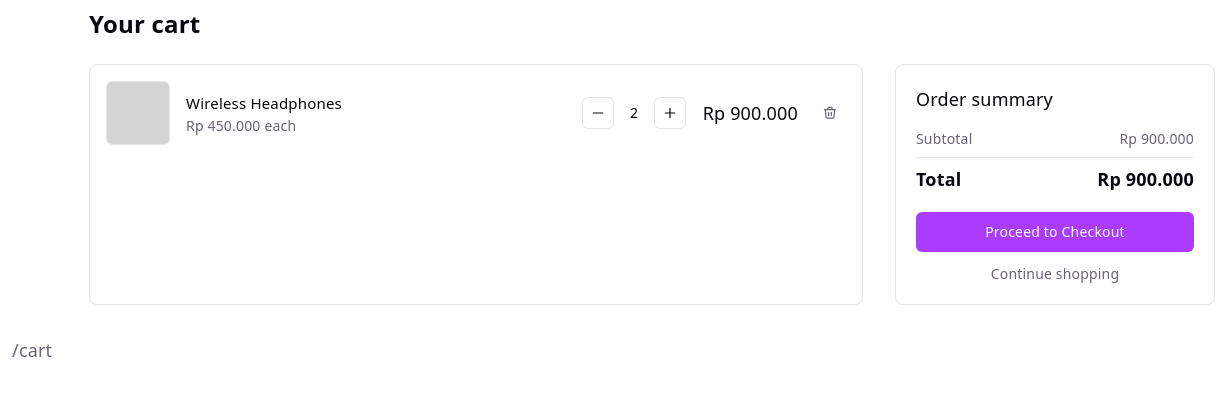
it: CartPage › shows an error message when a cart mutation fails
Step 1. Click the button named "Remove Wireless Headphones" → (830, 113), box 814,97 -> 846,129
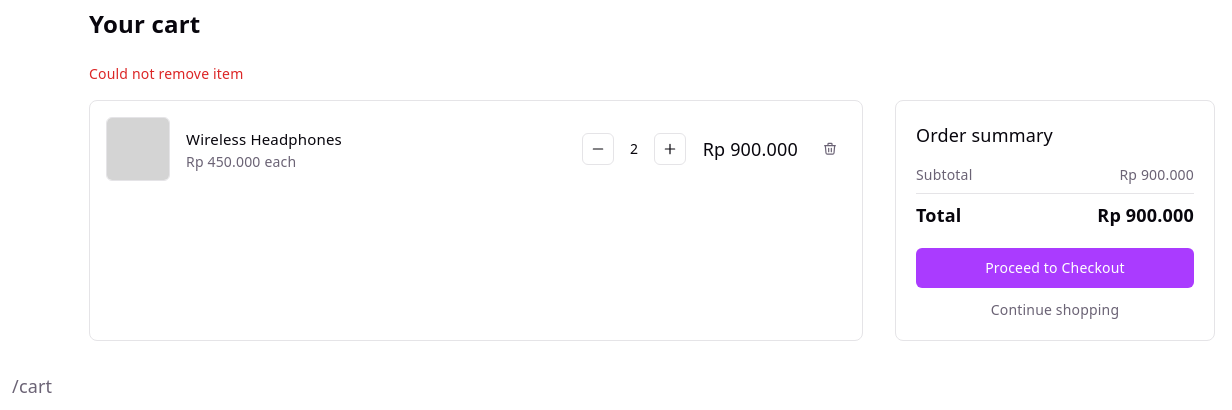
Now the text "Could not remove item" is shown, box 89,64 -> 243,83
